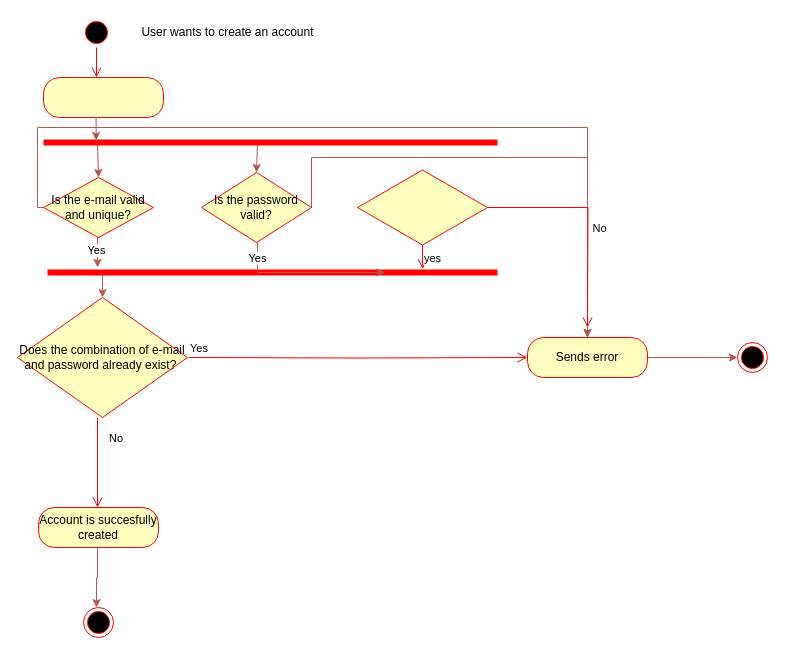
Some shapes in this 785 by 655 pixel diagram are drawn without their labels. The centre of each missing label's shape, as x and y in pixels:
"Is the password entered twice?" belongs at pixel 422 207.
"Retrieve user input" belongs at pixel 103 97.
